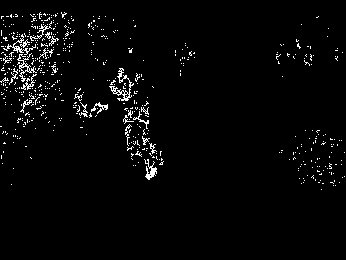person: (119, 101, 168, 184), (102, 68, 135, 120)
